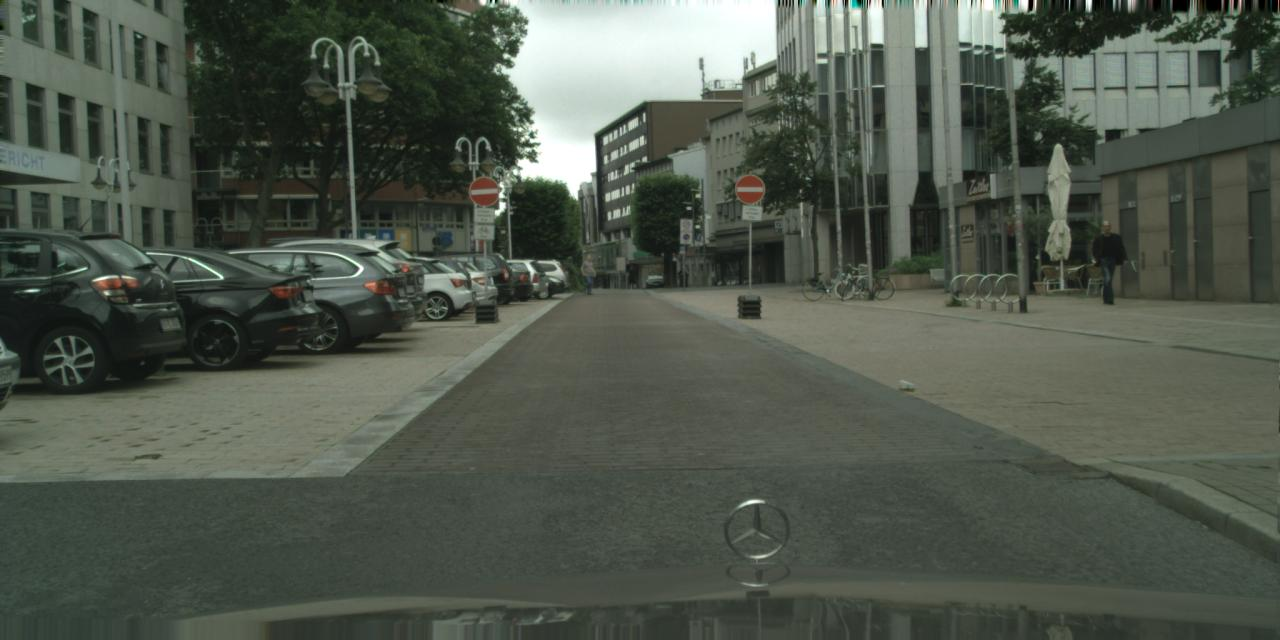ped: (1090, 221, 1124, 305), (580, 254, 596, 295), (626, 265, 636, 289)
